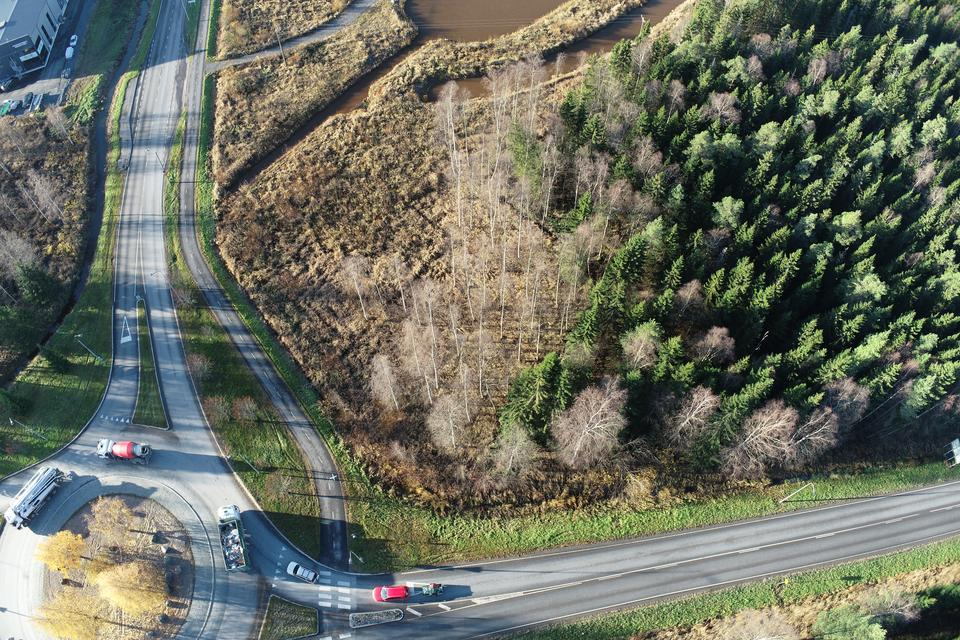intersection: (302, 533, 380, 640), (104, 38, 246, 93)
roundabout: (0, 339, 294, 640)
